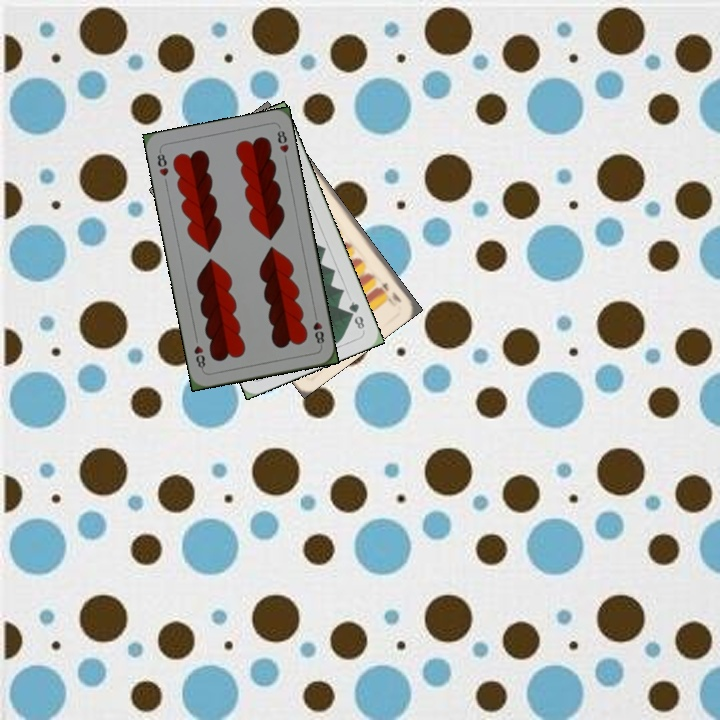E10: (376, 278, 404, 305)
G8: (345, 297, 367, 333)
H8: (309, 309, 327, 349), (153, 147, 171, 179)
